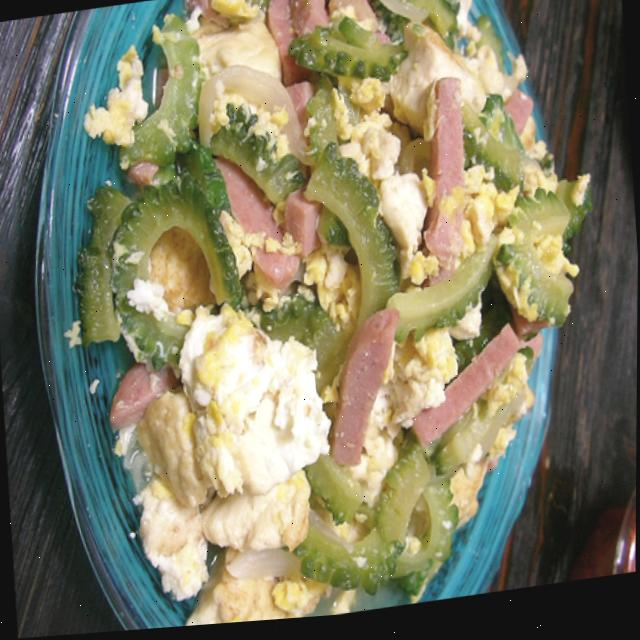熟制海鲜: (23, 0, 623, 638)
